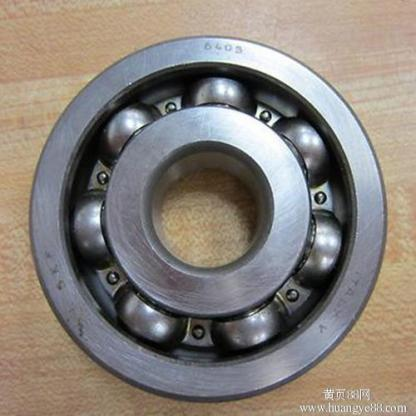FOD: (24, 30, 394, 406)
